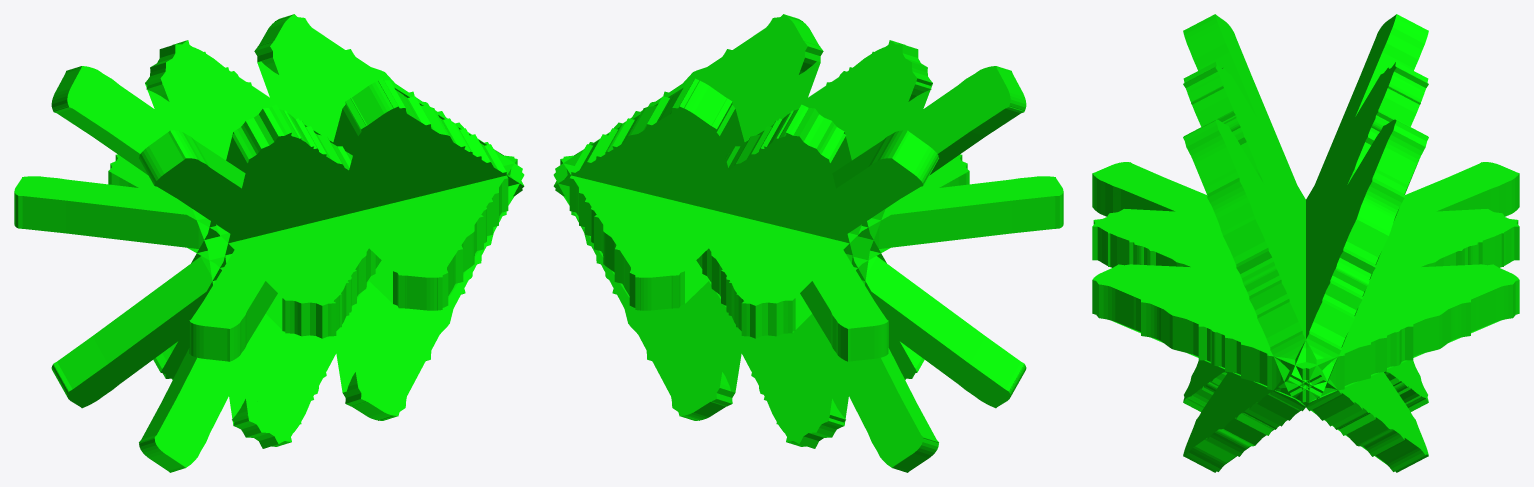
File: arrow3D.fbx
The picture shows the model from 3 angles, left to right: view 1: azimuth 30°, elevation 25°; view 2: azimuth 150°, elevation 25°; view 3: azimuth 270°, elevation 25°; orthographic projection. The views are drawn at different scales.
Parts seen in each view (by area): view 1: 颜色填充_1; view 2: 颜色填充_1; view 3: 颜色填充_1.
Part boxes in pixels (left/top/right/bottom): 颜色填充_1: left=14, top=14, right=524, bottom=472; 颜色填充_1: left=553, top=14, right=1063, bottom=472; 颜色填充_1: left=1092, top=14, right=1519, bottom=472.
Bounding box in the file's own units: 2.63 × 2.09 × 2.29.
